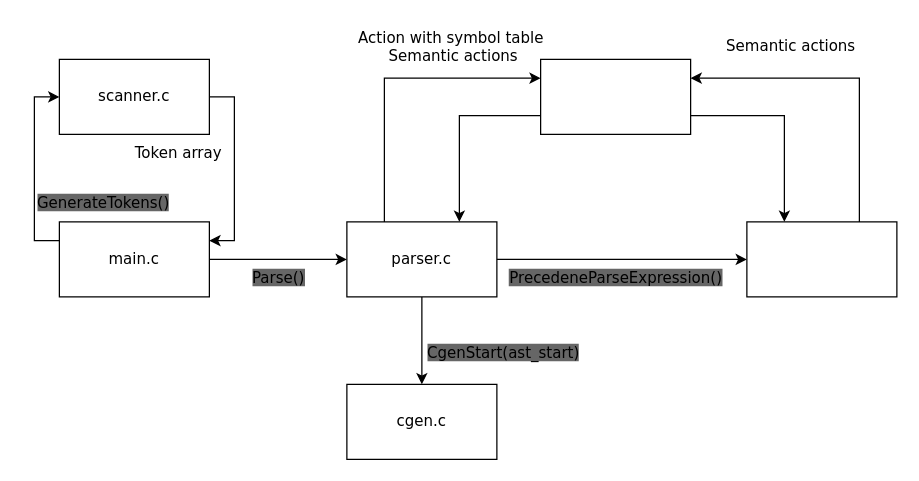
Some shapes in this 919 by 481 pixel diagram are drawn without their labels. The shapes that lost their labels are listed below. From the top down, each one's centre as x and y in pixels, then its label:
At (615,96): "symtable .c".
At (821,259): "expr_parser.c".
